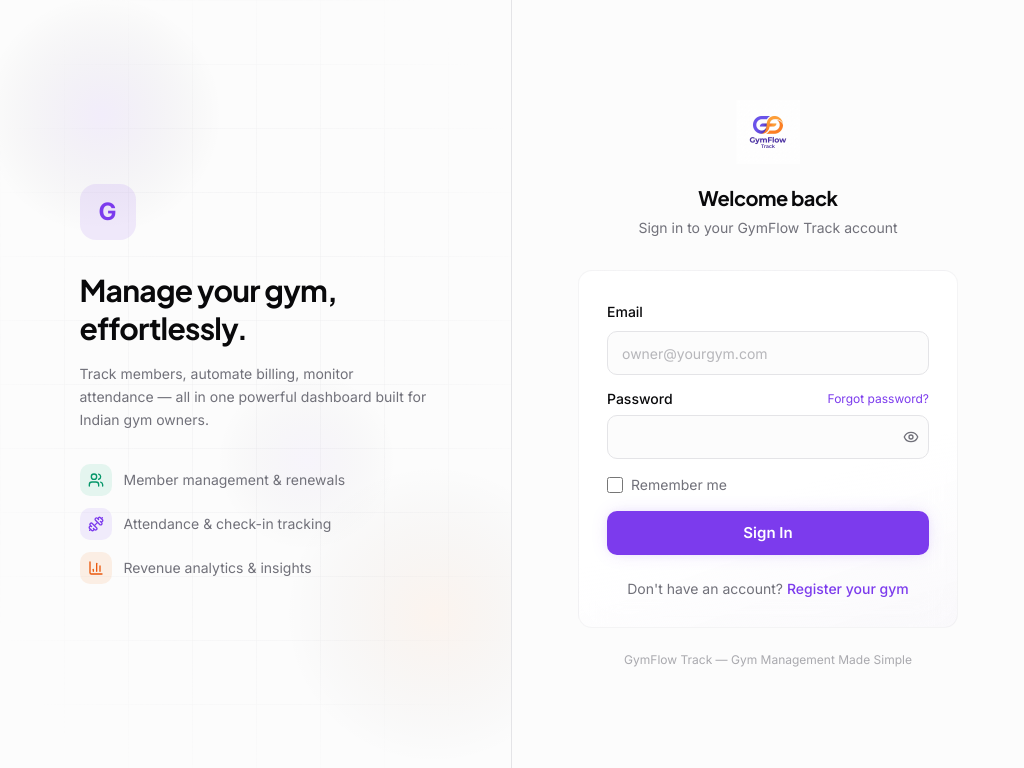
Scenario: LoginPage › displays server error on login failure
Type "owner@gym.com" into the field labelled "Email" at (768, 353), box x1=607 y1=331 x2=929 y2=375
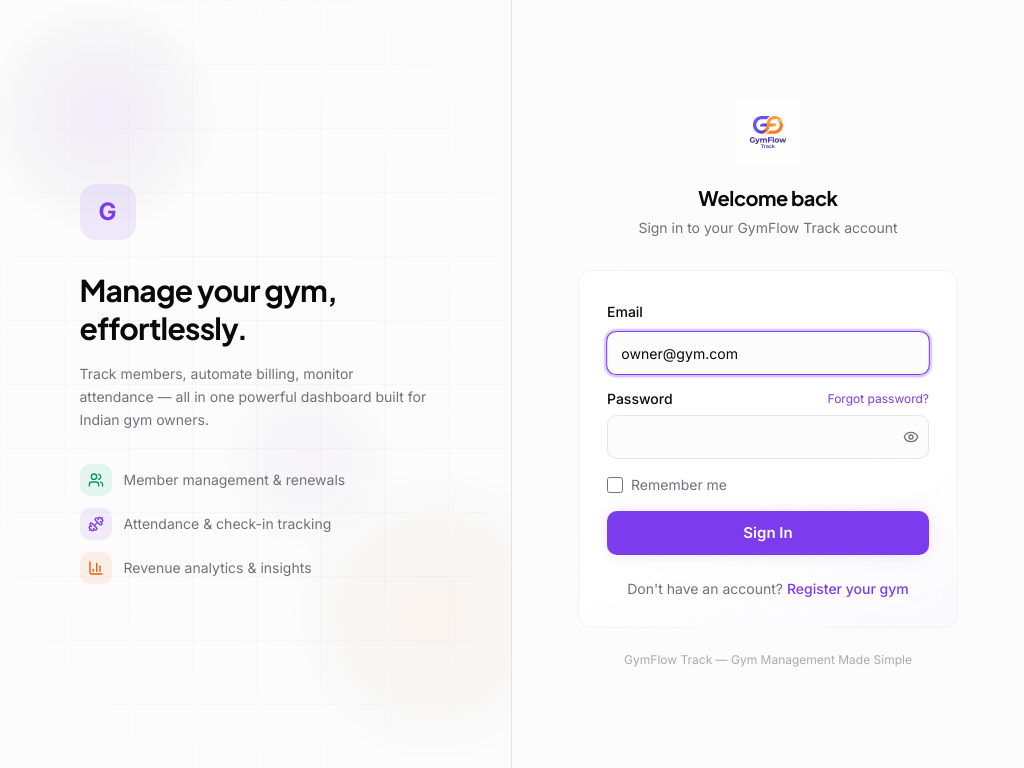
Type "WrongPass1" into the password field labelled "Password" at (768, 437), box x1=607 y1=415 x2=929 y2=459
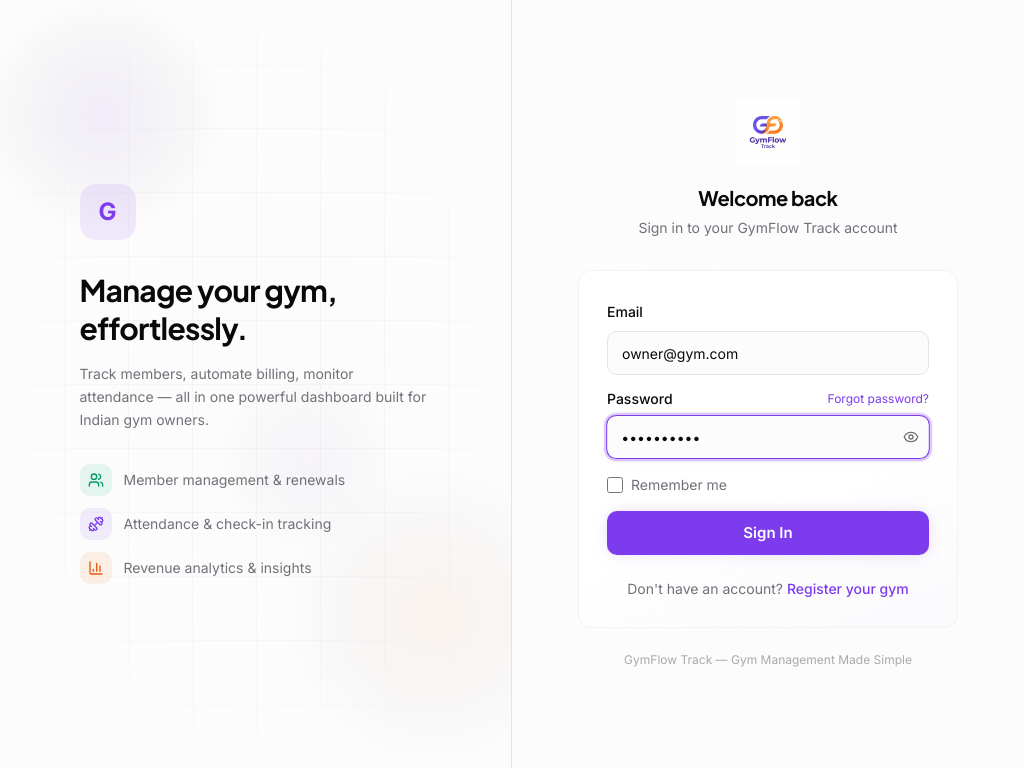
Click the button "Sign In" at (768, 533), box x1=607 y1=511 x2=929 y2=555
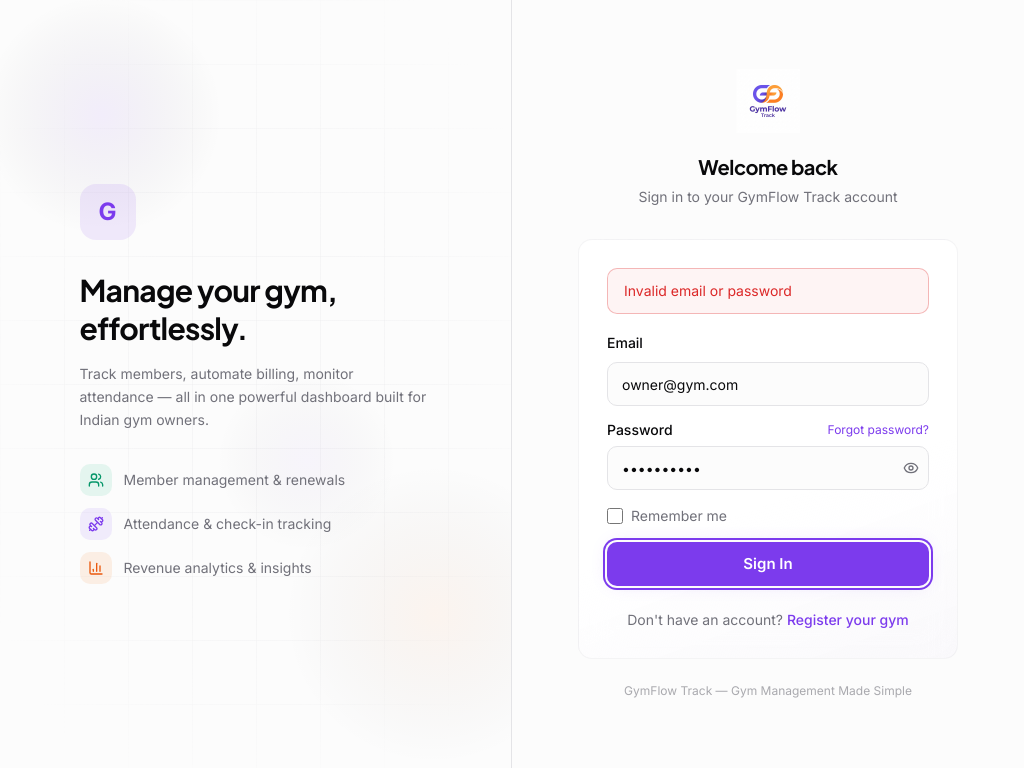
expect the message reads "Invalid email or password": met, box x1=624 y1=282 x2=792 y2=299
